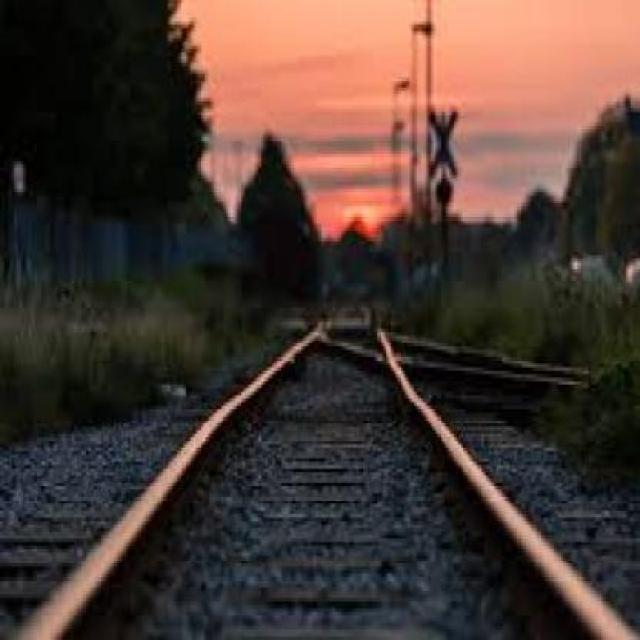rail: (6, 288, 636, 640)
